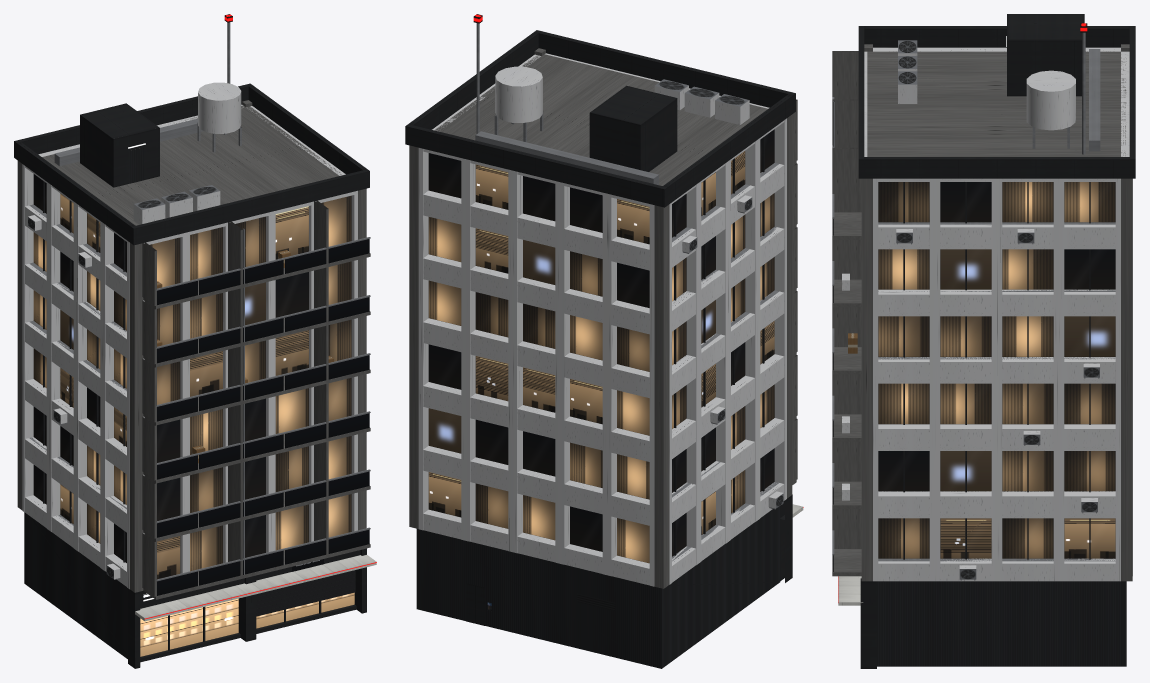
File: SM_INFD_BlockD_1.fbx
3 renders of one model, left to right at view 1: azimuth 30°, elevation 25°; view 2: azimuth 150°, elevation 25°; view 3: azimuth 270°, elevation 25°, orthographic. The views are drawn at different scales.
Parts seen in each view (by area): view 1: SM_INFD_BlockD_1_LOD0; view 2: SM_INFD_BlockD_1_LOD0; view 3: SM_INFD_BlockD_1_LOD0.
Part boxes in pixels (x1,y1,x2,y2): SM_INFD_BlockD_1_LOD0: [14, 14, 376, 668]; SM_INFD_BlockD_1_LOD0: [405, 14, 803, 668]; SM_INFD_BlockD_1_LOD0: [832, 14, 1135, 668].
Size of what is drawn, in the model's own units: 16.9 by 35.35 by 15.65.
